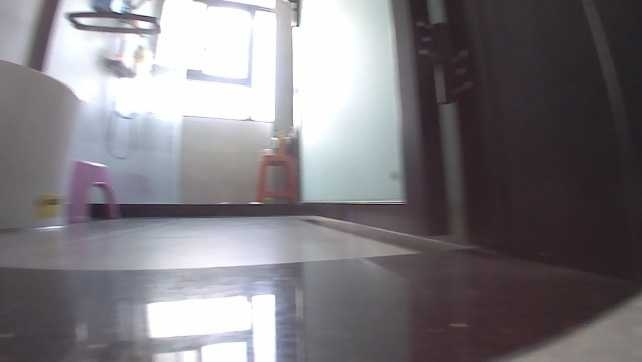door_anno: (284, 0, 577, 240)
plastic_stool: (69, 159, 123, 220)
toilet: (0, 59, 85, 230)
